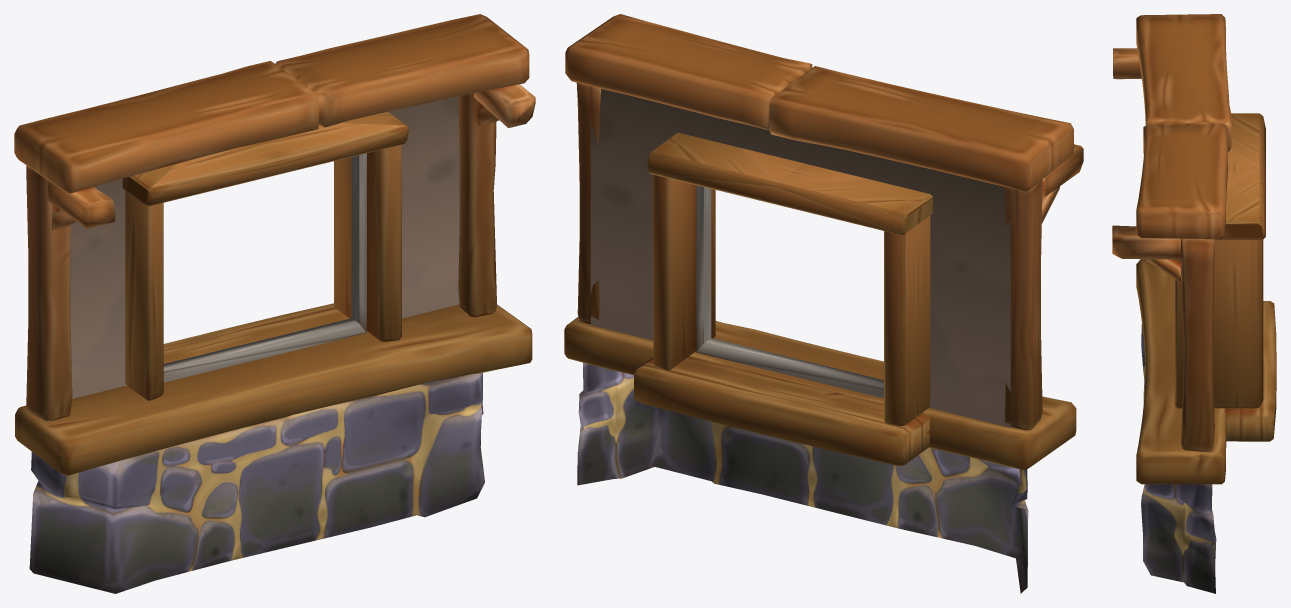
The model's file is Wall_LongA_01.fbx.
The picture shows the model from 3 angles, left to right: view 1: azimuth 30°, elevation 25°; view 2: azimuth 150°, elevation 25°; view 3: azimuth 270°, elevation 25°; orthographic projection. The views are drawn at different scales.
Parts seen in each view (by area): view 1: Wall_LongA_01, Wall003; view 2: Wall_LongA_01, Wall003; view 3: Wall_LongA_01.
Boxes of the visible parts, x1,y1,x2,y2 form: Wall_LongA_01: (14,14,535,593); Wall003: (70,96,459,398); Wall_LongA_01: (564,14,1083,593); Wall003: (590,89,1010,427); Wall_LongA_01: (1112,14,1276,593).
Bounding box in the file's own units: 4620 × 4214 × 1608.
3 materials, 3 textured.
